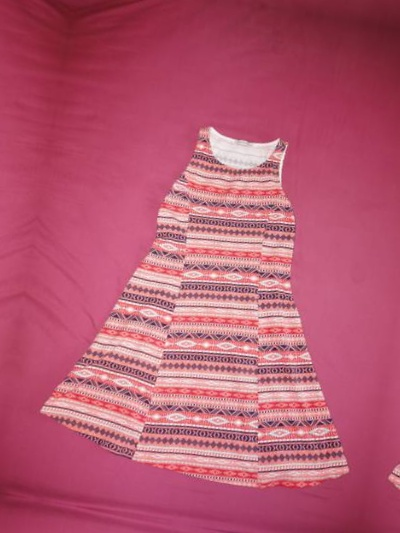Dress: (21, 88, 400, 516), (0, 24, 35, 452), (379, 149, 400, 533), (0, 532, 332, 533)
